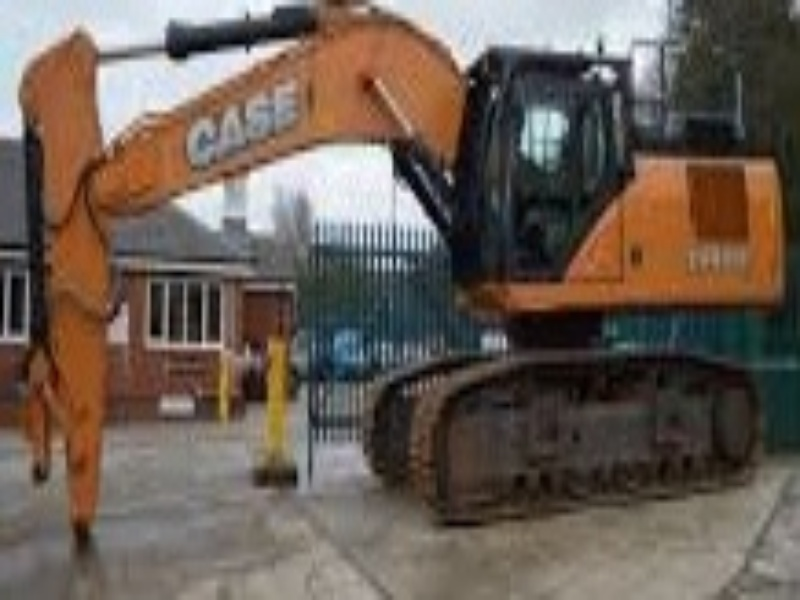wajueji: (252, 5, 785, 525)
